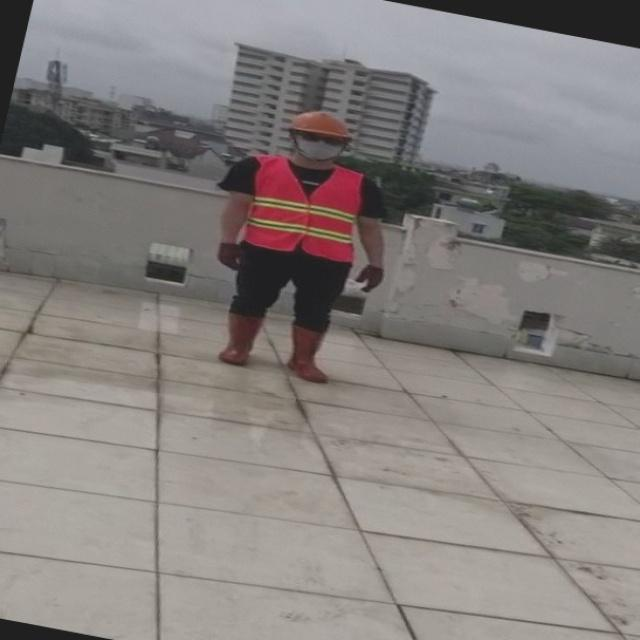helmet: (282, 100, 352, 142)
safety_vest: (240, 152, 362, 270)
